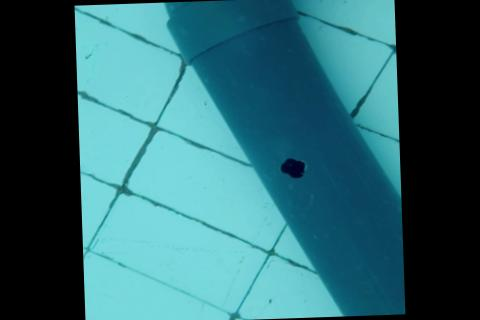kebocoran: (278, 155, 311, 178)
